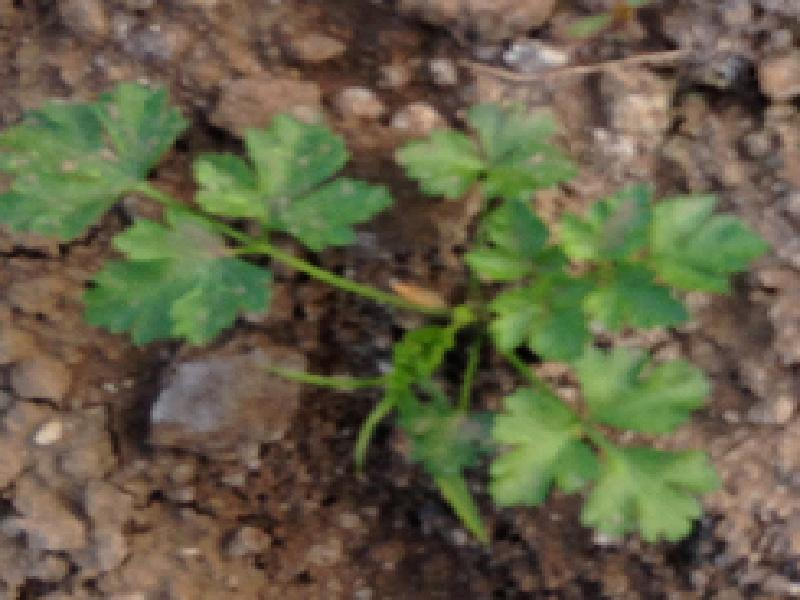radish: (175, 41, 741, 600)
